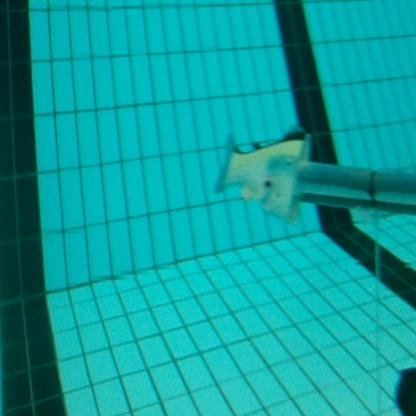tail: (212, 120, 313, 224)
